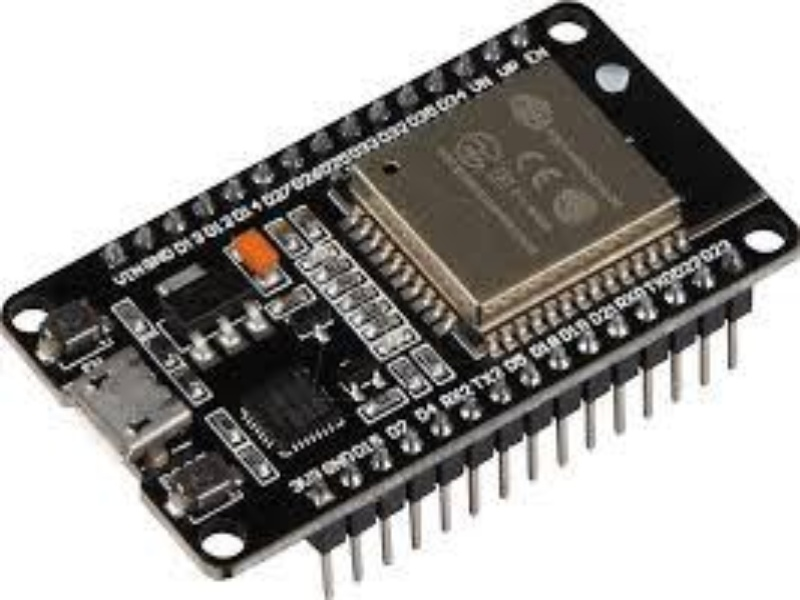esp32: (13, 26, 768, 538)
